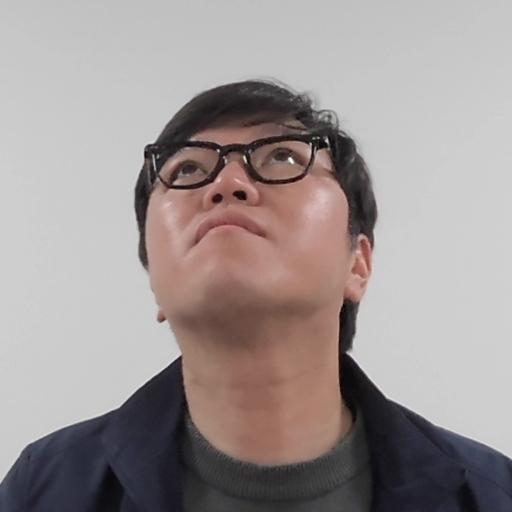no_glasses: (131, 91, 378, 344)
